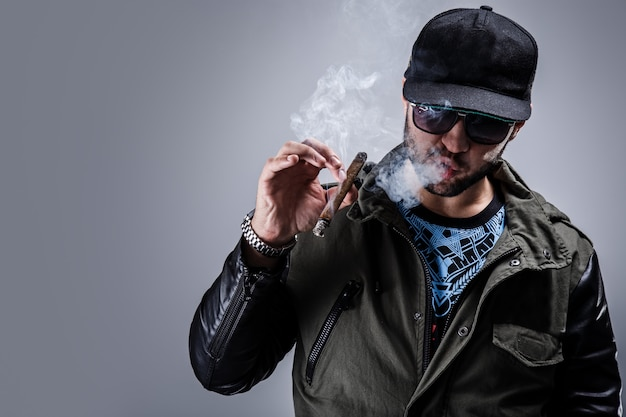cigarette: (310, 151, 370, 238)
